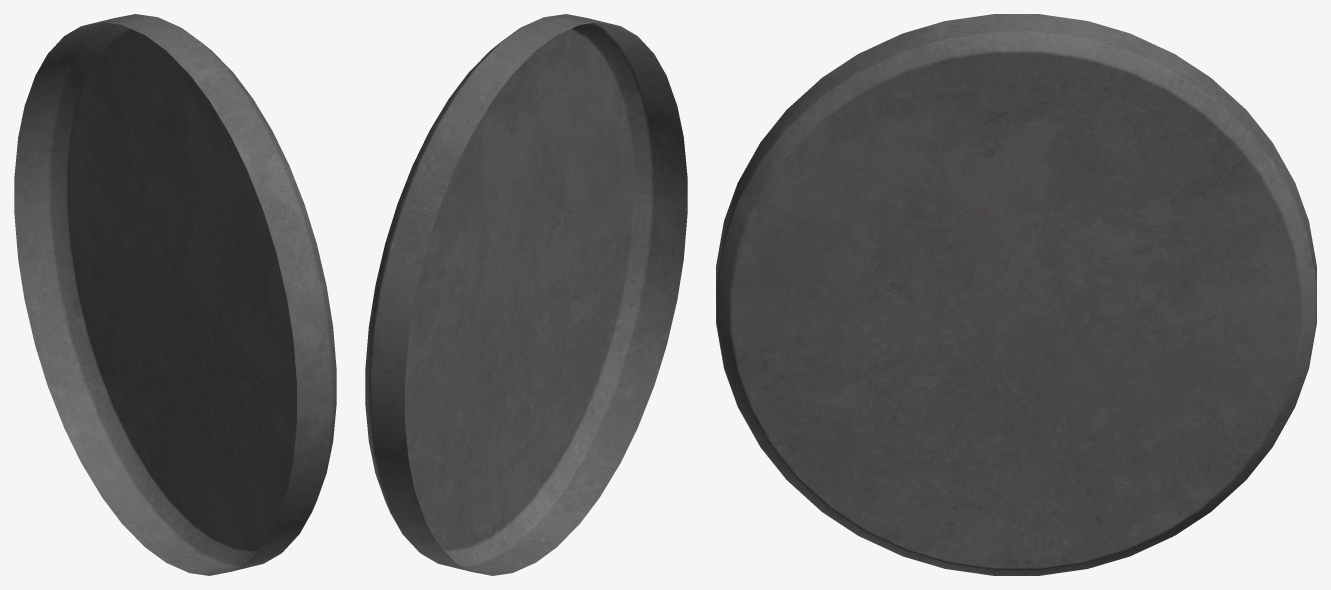
The model's file is cP_Pathway03_SteppingStoneRound.dae.
3 views of the same model, side by side, from view 1: azimuth 30°, elevation 25°; view 2: azimuth 150°, elevation 25°; view 3: azimuth 270°, elevation 25° (orthographic). The views are drawn at different scales.
Parts seen in each view (by area): view 1: cP_Pathway03_SteppingStoneRound.001; view 2: cP_Pathway03_SteppingStoneRound.001; view 3: cP_Pathway03_SteppingStoneRound.001.
Part boxes in pixels (box(x1,y1,x2,y2)): cP_Pathway03_SteppingStoneRound.001: box(14, 14, 336, 575); cP_Pathway03_SteppingStoneRound.001: box(365, 14, 687, 575); cP_Pathway03_SteppingStoneRound.001: box(716, 14, 1316, 575).
Size of the model in its own units: 0.0521 by 0.5442 by 0.5442.
